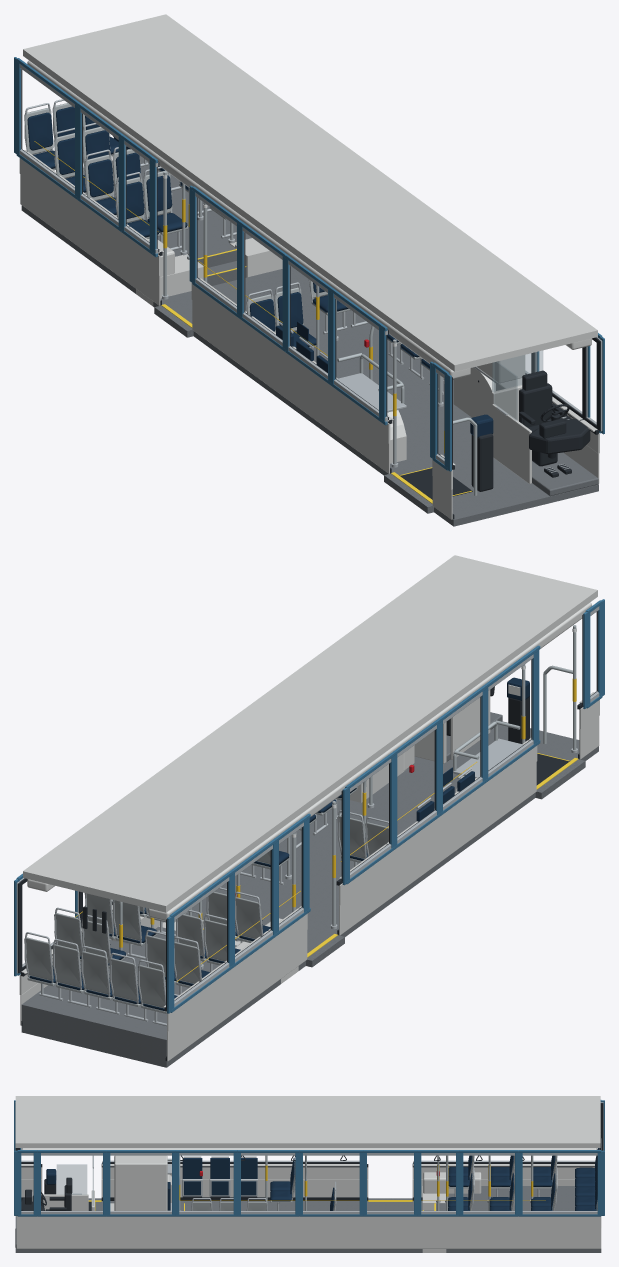
The model's file is city-bus-12m-interior-v2-closeup.lod0.glb.
The picture shows the model from 3 angles, top to bottom: view 1: azimuth 30°, elevation 25°; view 2: azimuth 150°, elevation 25°; view 3: azimuth 270°, elevation 25°; orthographic projection. The views are drawn at different scales.
Parts seen in each view (by area): view 1: interior-batch-panel, interior-batch-floor, interior-batch-window-outer-blue, interior-batch-seat, interior-batch-rubber, interior-batch-metal, interior-batch-seat-shell, interior-batch-rail, interior-batch-glass, interior-batch-yellow-grip; view 2: interior-batch-panel, interior-batch-floor, interior-batch-seat-shell, interior-batch-window-outer-blue, interior-batch-metal, interior-batch-rubber, interior-batch-rail, interior-batch-seat, interior-batch-yellow-grip; view 3: interior-batch-panel, interior-batch-window-outer-blue, interior-batch-seat, interior-batch-metal, interior-batch-floor, interior-batch-rubber, interior-batch-seat-shell, interior-batch-glass, interior-batch-yellow-grip, interior-batch-rail.
Boxes of the visible parts, left/top/right/bottom form: interior-batch-panel: left=19, top=14, right=599, bottom=519; interior-batch-floor: left=21, top=156, right=598, bottom=526; interior-batch-window-outer-blue: left=14, top=57, right=604, bottom=471; interior-batch-seat: left=27, top=106, right=493, bottom=437; interior-batch-rubber: left=21, top=69, right=600, bottom=519; interior-batch-metal: left=19, top=64, right=602, bottom=472; interior-batch-seat-shell: left=24, top=103, right=429, bottom=370; interior-batch-rail: left=163, top=171, right=477, bottom=495; interior-batch-glass: left=492, top=350, right=542, bottom=420; interior-batch-yellow-grip: left=34, top=141, right=444, bottom=453; interior-batch-panel: left=19, top=555, right=599, bottom=1061; interior-batch-floor: left=21, top=712, right=598, bottom=1067; interior-batch-seat-shell: left=24, top=787, right=388, bottom=1013; interior-batch-window-outer-blue: left=14, top=599, right=604, bottom=1013; interior-batch-metal: left=16, top=606, right=599, bottom=1026; interior-batch-rubber: left=18, top=611, right=597, bottom=1060; interior-batch-rail: left=119, top=625, right=576, bottom=965; interior-batch-seat: left=29, top=677, right=529, bottom=1010; interior-batch-yellow-grip: left=75, top=678, right=576, bottom=981; interior-batch-panel: left=15, top=1096, right=601, bottom=1252; interior-batch-window-outer-blue: left=14, top=1100, right=604, bottom=1216; interior-batch-seat: left=46, top=1148, right=599, bottom=1210; interior-batch-metal: left=15, top=1102, right=603, bottom=1214; interior-batch-floor: left=15, top=1186, right=601, bottom=1252; interior-batch-rubber: left=15, top=1103, right=603, bottom=1210; interior-batch-seat-shell: left=191, top=1149, right=599, bottom=1210; interior-batch-glass: left=57, top=1164, right=93, bottom=1205; interior-batch-yellow-grip: left=179, top=1165, right=545, bottom=1200; interior-batch-rail: left=167, top=1155, right=533, bottom=1210.
Bounding box in the file's own units: 2.48 × 2.44 × 11.97.
Materials: 13 (1 with a texture image).
